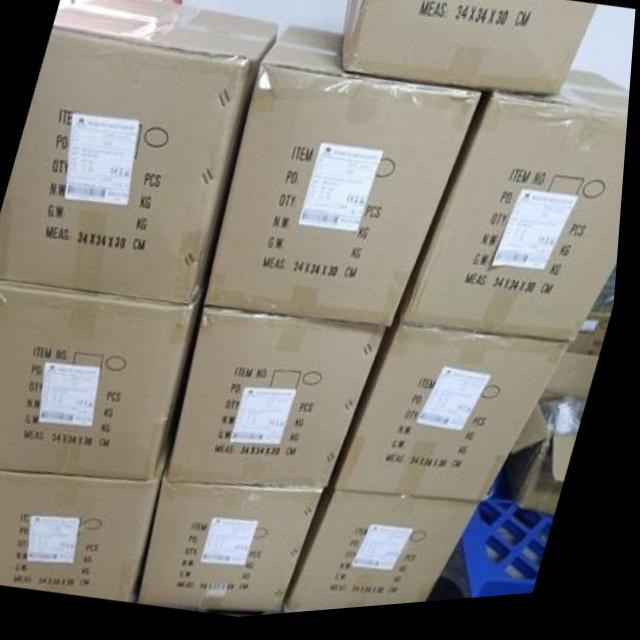box: (0, 0, 280, 313), (209, 33, 483, 334), (403, 80, 632, 353), (337, 316, 579, 510), (0, 278, 210, 485), (175, 308, 394, 497), (147, 463, 333, 617), (0, 452, 173, 604), (291, 487, 491, 618), (343, 0, 597, 103)
